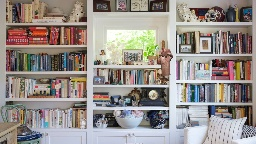Pugno: (156, 48, 173, 60)
